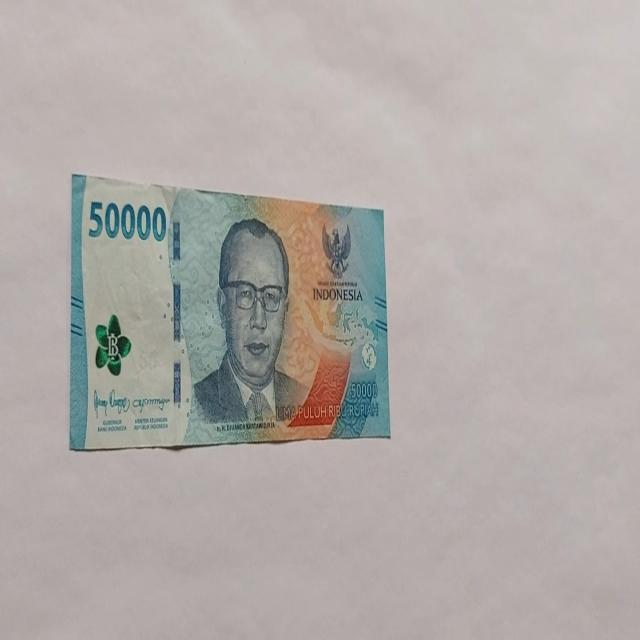lima puluh ribu rupiah: (69, 172, 392, 452), (190, 216, 312, 430)
